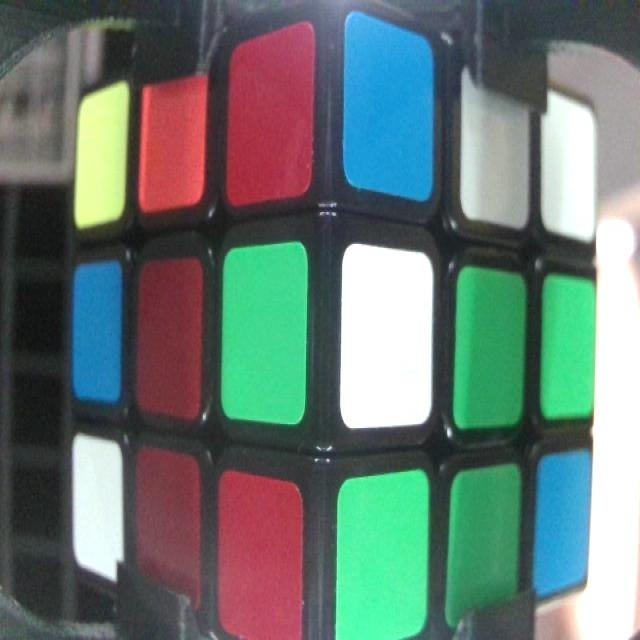b: (347, 13, 432, 201), (538, 458, 590, 596), (72, 267, 120, 401)
g: (223, 248, 304, 423), (337, 476, 416, 620), (451, 463, 519, 627), (458, 270, 524, 426), (544, 275, 592, 421)
o: (141, 72, 203, 206)
r: (222, 470, 300, 638), (230, 40, 312, 199), (136, 454, 197, 606), (140, 261, 198, 413)
w: (344, 246, 430, 424), (460, 71, 528, 230), (544, 91, 597, 245), (74, 438, 124, 581)
y: (78, 96, 128, 226)
